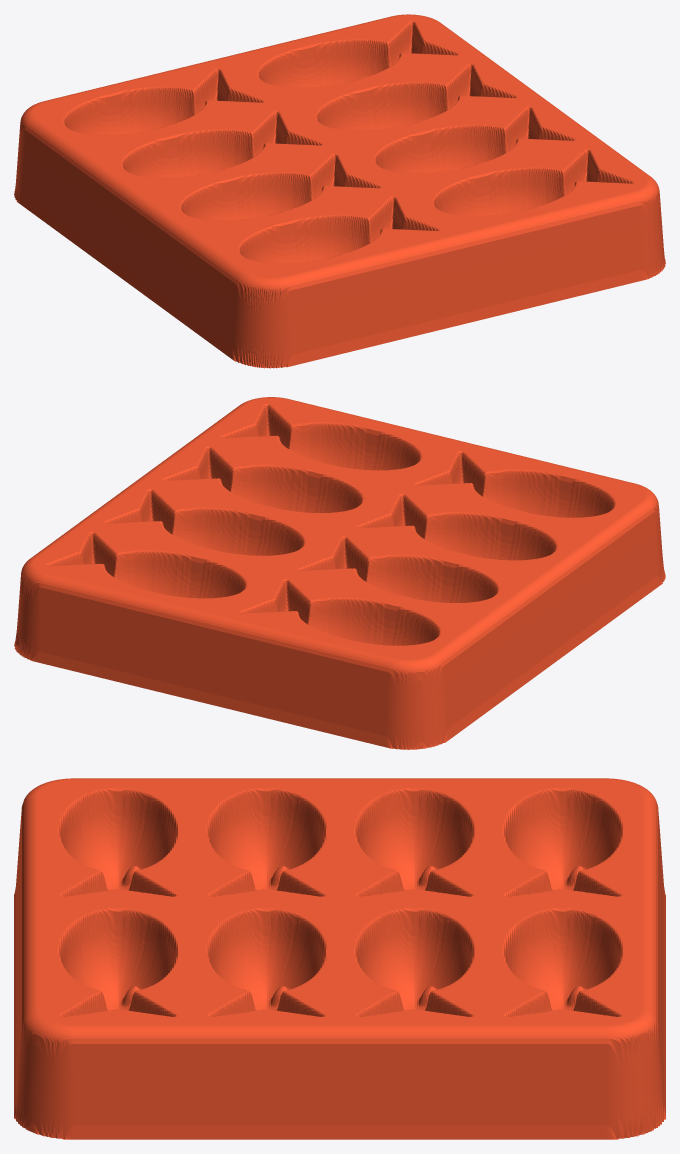
File: mold.glb
The picture shows the model from 3 angles, top to bottom: view 1: azimuth 30°, elevation 25°; view 2: azimuth 150°, elevation 25°; view 3: azimuth 270°, elevation 25°; orthographic projection. The views are drawn at different scales.
Visible parts, largest first — view 1: geometry_0; view 2: geometry_0; view 3: geometry_0.
Part boxes in pixels (box(x1,y1,x2,y2)): geometry_0: box(14, 14, 665, 368); geometry_0: box(14, 397, 665, 749); geometry_0: box(14, 778, 665, 1139).
Bounding box in the file's own units: 0.0956 × 0.0175 × 0.0992.
